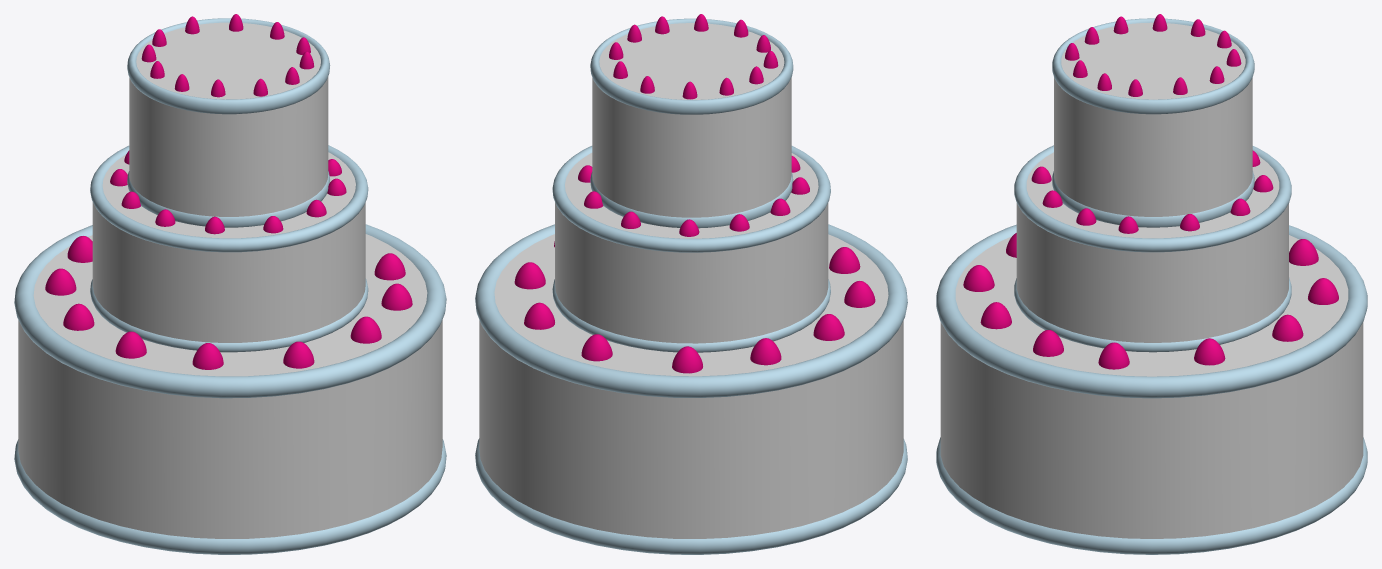
File: Cake.fbx
3 views of the same model, side by side, from view 1: azimuth 30°, elevation 25°; view 2: azimuth 150°, elevation 25°; view 3: azimuth 270°, elevation 25° (orthographic).
Parts seen in each view (by area): view 1: pCylinder1 (×3), pTorus1 (×3), pTorus2 (×3), pSphere11, pSphere12, pSphere10, pSphere5, pSphere3, pSphere1, pSphere4, pSphere2, pSphere6; view 2: pCylinder1 (×3), pTorus1 (×3), pTorus2 (×3), pSphere9, pSphere5, pSphere4, pSphere8, pSphere7, pSphere6, pSphere3, pSphere2; view 3: pCylinder1 (×3), pTorus1 (×3), pTorus2 (×3), pSphere10, pSphere9, pSphere1, pSphere8, pSphere12, pSphere11, pSphere7, pSphere6.
Boxes of the visible parts, x1,y1,x2,y2 form: pCylinder1 (×3): (18, 22, 442, 538); pTorus1 (×3): (14, 18, 446, 398); pTorus2 (×3): (14, 171, 446, 554); pSphere11: (381, 283, 412, 310); pSphere12: (350, 316, 381, 343); pSphere10: (374, 253, 405, 280); pSphere5: (45, 268, 76, 295); pSphere3: (115, 331, 146, 358); pSphere1: (283, 341, 314, 368); pSphere4: (63, 303, 94, 330); pSphere2: (192, 343, 223, 369); pSphere6: (67, 236, 92, 262); pCylinder1 (×3): (479, 23, 903, 538); pTorus1 (×3): (475, 18, 907, 397); pTorus2 (×3): (475, 172, 907, 554); pSphere9: (514, 262, 545, 289); pSphere5: (750, 338, 781, 365); pSphere4: (813, 314, 844, 340); pSphere8: (524, 302, 554, 329); pSphere7: (581, 334, 612, 361); pSphere6: (672, 346, 702, 373); pSphere3: (844, 281, 875, 307); pSphere2: (829, 247, 860, 273); pCylinder1 (×3): (940, 22, 1363, 538); pTorus1 (×3): (936, 18, 1367, 398); pTorus2 (×3): (936, 171, 1367, 554); pSphere10: (1098, 342, 1129, 369); pSphere9: (1194, 338, 1225, 365); pSphere1: (963, 265, 994, 291); pSphere8: (1272, 314, 1303, 341); pSphere12: (980, 302, 1011, 329); pSphere11: (1033, 330, 1063, 356); pSphere7: (1308, 278, 1338, 304); pSphere6: (1289, 239, 1318, 265).
Size of the model in its own units: 10.42 by 11.17 by 10.4.
